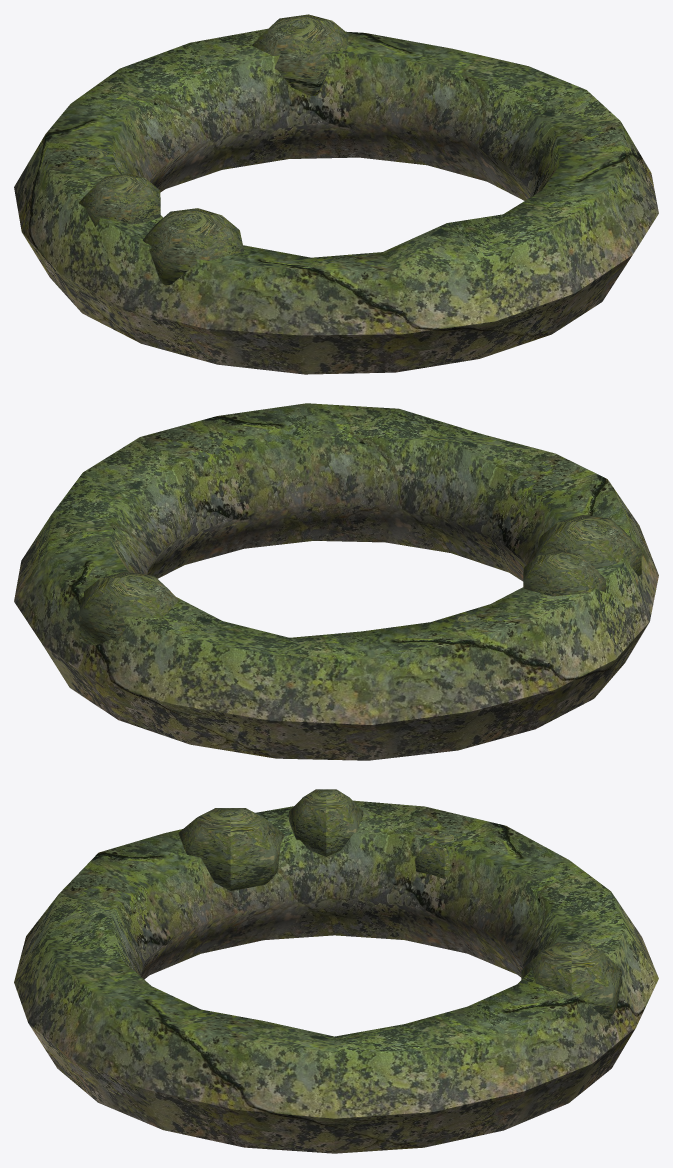
Rendered from fallframe.glb.
3 renders of one model, top to bottom at view 1: azimuth 30°, elevation 25°; view 2: azimuth 150°, elevation 25°; view 3: azimuth 270°, elevation 25°, orthographic.
Parts seen in each view (by area): view 1: PoolRim; view 2: PoolRim; view 3: PoolRim.
Part boxes in pixels (x1,y1,x2,y2): PoolRim: [14, 14, 658, 374]; PoolRim: [14, 403, 658, 760]; PoolRim: [14, 789, 658, 1153].
Size of the model in its own units: 17.25 by 3.96 by 17.48.
Materials: 1 (1 with a texture image).
